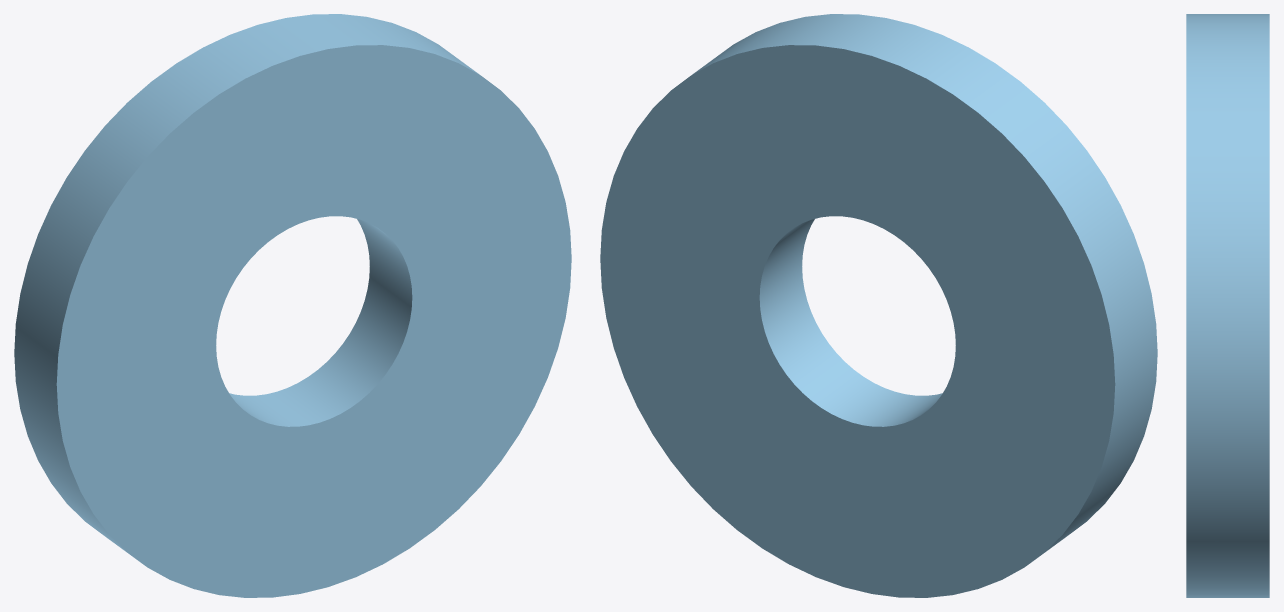
3 views of the same model, side by side, from view 1: azimuth 30°, elevation 25°; view 2: azimuth 150°, elevation 25°; view 3: azimuth 270°, elevation 25° (orthographic).
Parts seen in each view (by area): view 1: mesh3429, mesh3426, mesh3428; view 2: mesh3427, mesh3426, mesh3428; view 3: mesh3426.
Part boxes in pixels (x1=…): mesh3429: x1=56, y1=45, x2=571, y2=597; mesh3426: x1=14, y1=14, x2=479, y2=559; mesh3428: x1=229, y1=219, x2=412, y2=426; mesh3427: x1=600, y1=45, x2=1115, y2=597; mesh3426: x1=692, y1=14, x2=1157, y2=559; mesh3428: x1=759, y1=219, x2=942, y2=426; mesh3426: x1=1186, y1=14, x2=1269, y2=597.
Bounding box in the file's own units: 0.021 × 0.021 × 0.003.
